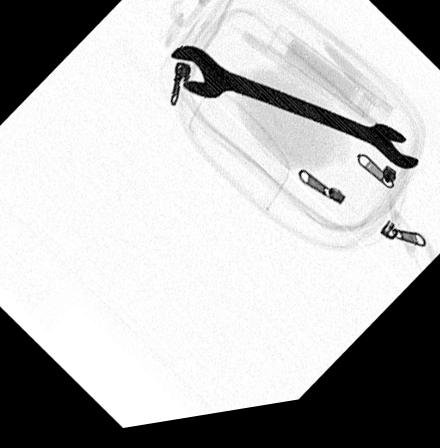Wrench: (169, 48, 419, 182)
